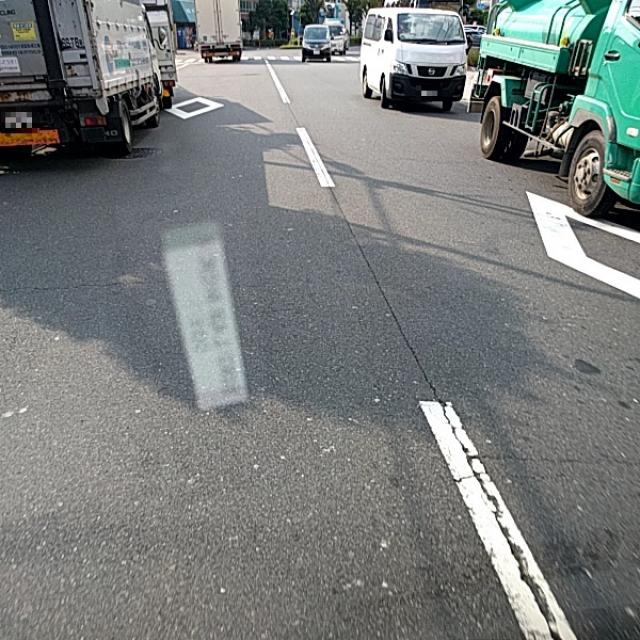pothole: (422, 406, 550, 511)
